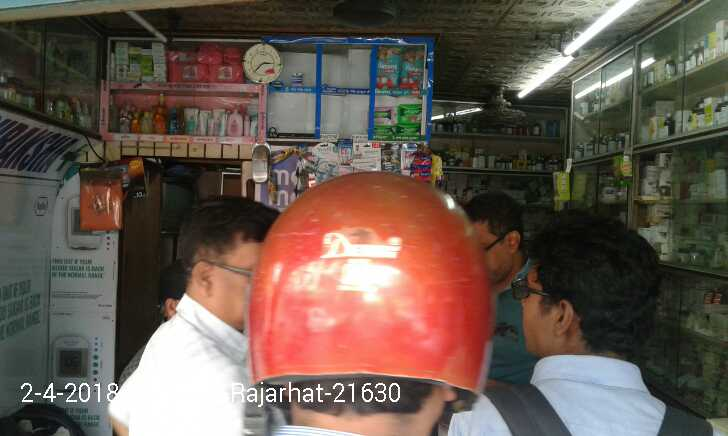vicks: (292, 71, 304, 84)
